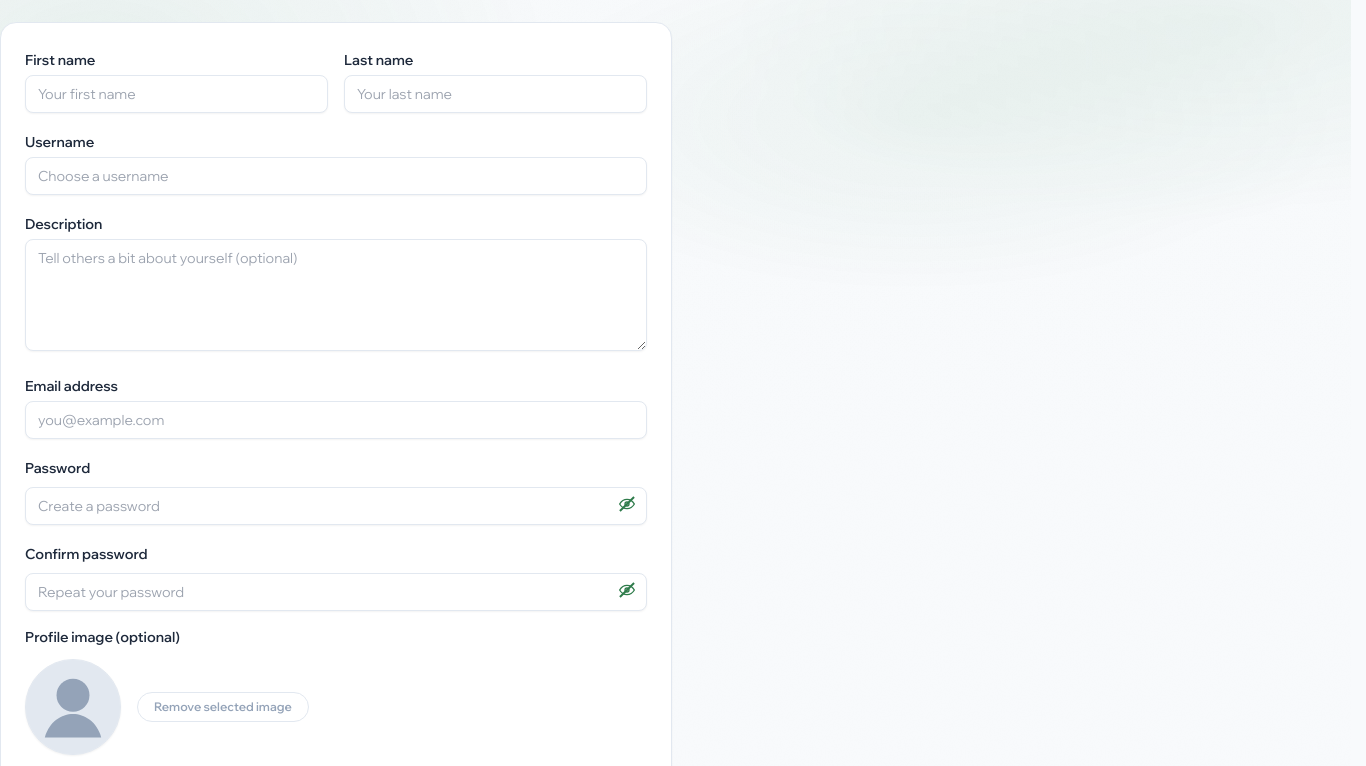
RegisterForm › shows password mismatch error when passwords differ
Type "Jamie" into the field labelled "First name" at (176, 94), box x1=25 y1=75 x2=328 y2=113
Type "Nguyen" into the field labelled "Last name" at (496, 94), box x1=344 y1=75 x2=647 y2=113
Type "jnguyen" into the field labelled "Username" at (336, 176), box x1=25 y1=157 x2=647 y2=195
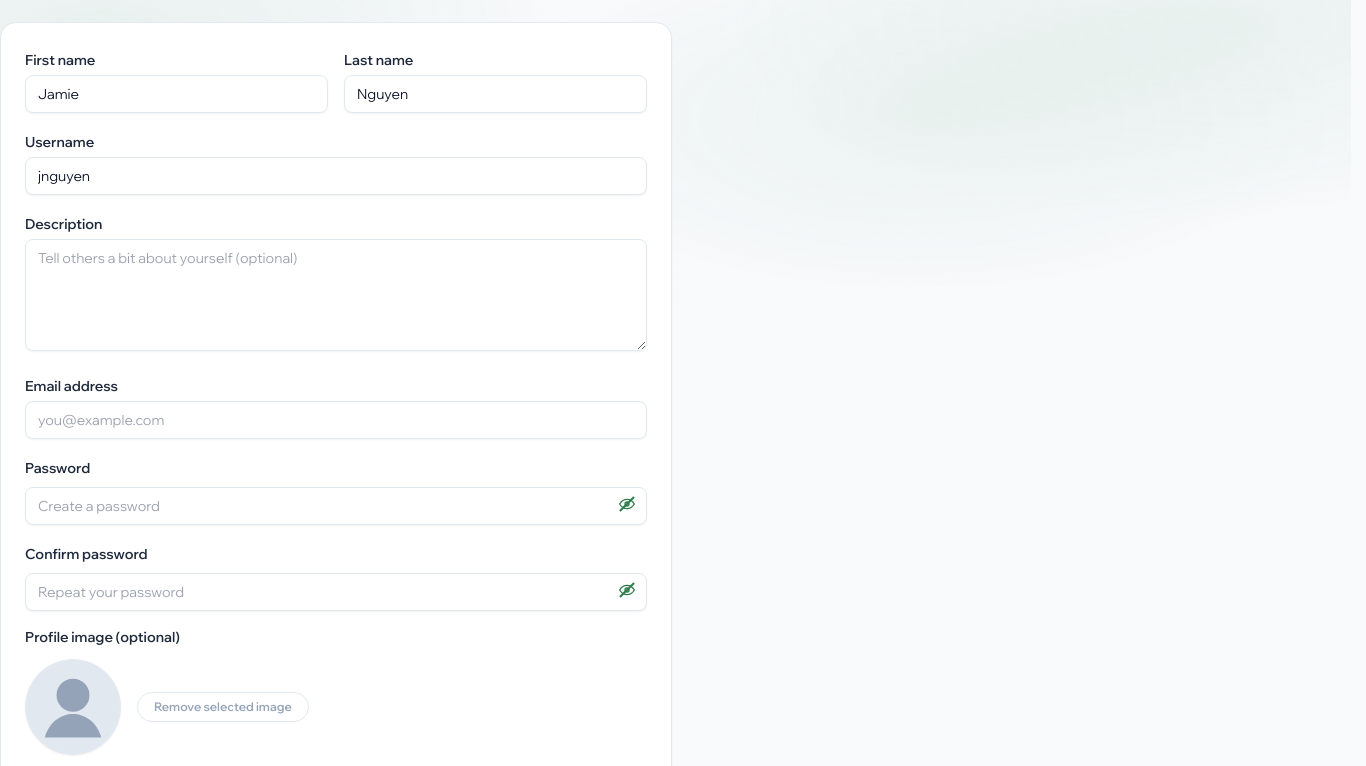
Type "jamie@example.com" into the field labelled "Email address" at (336, 420), box x1=25 y1=401 x2=647 y2=439
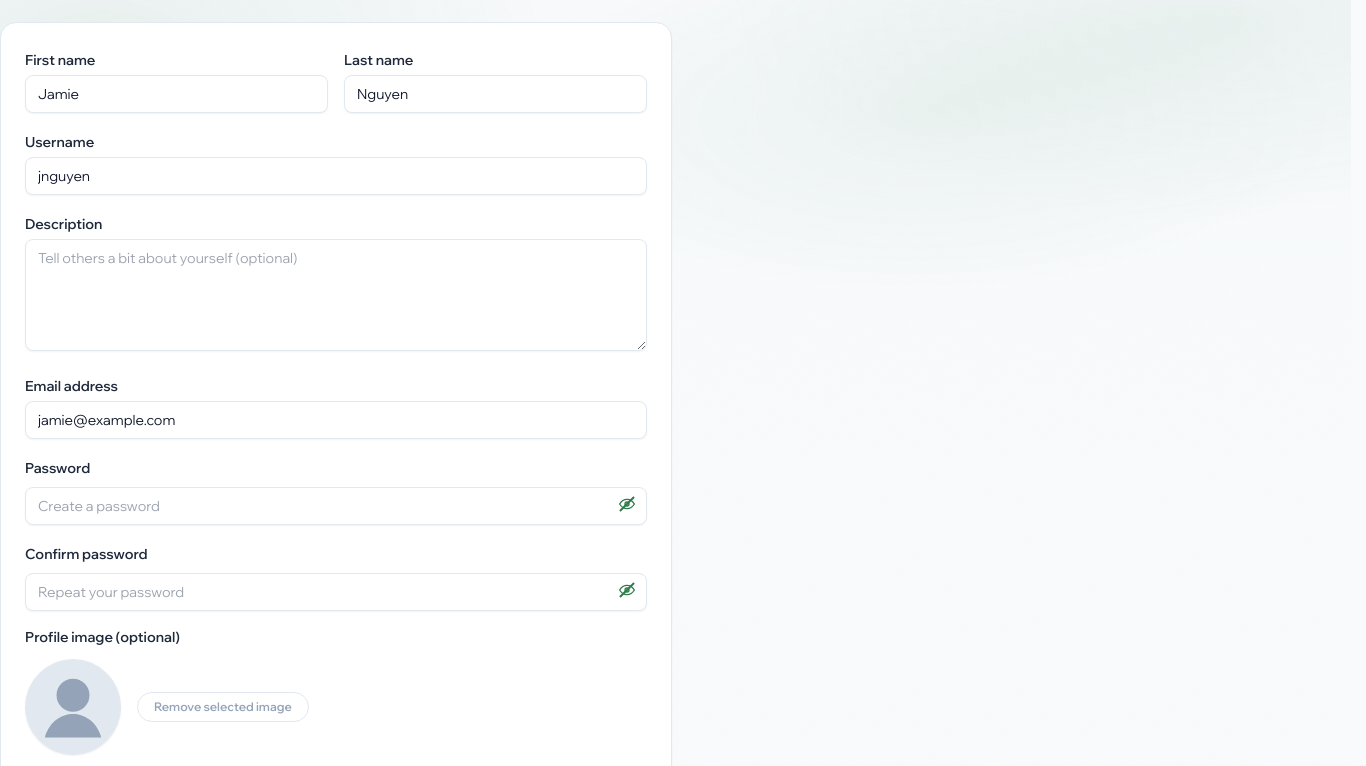
Type "password123" into the password field labelled "Password" at (336, 506), box x1=25 y1=487 x2=647 y2=525
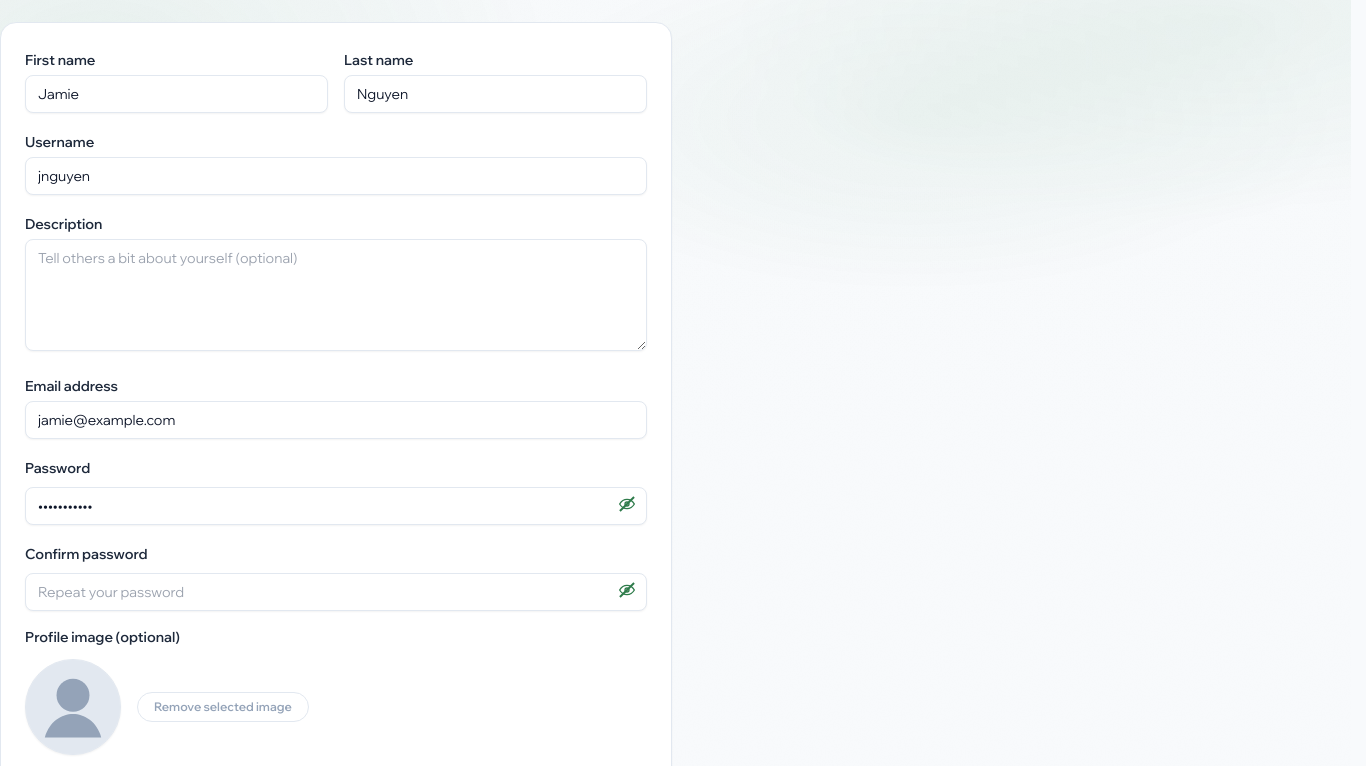
Type "password456" into the password field labelled "Confirm password" at (336, 592), box x1=25 y1=573 x2=647 y2=611
(page scrolled)
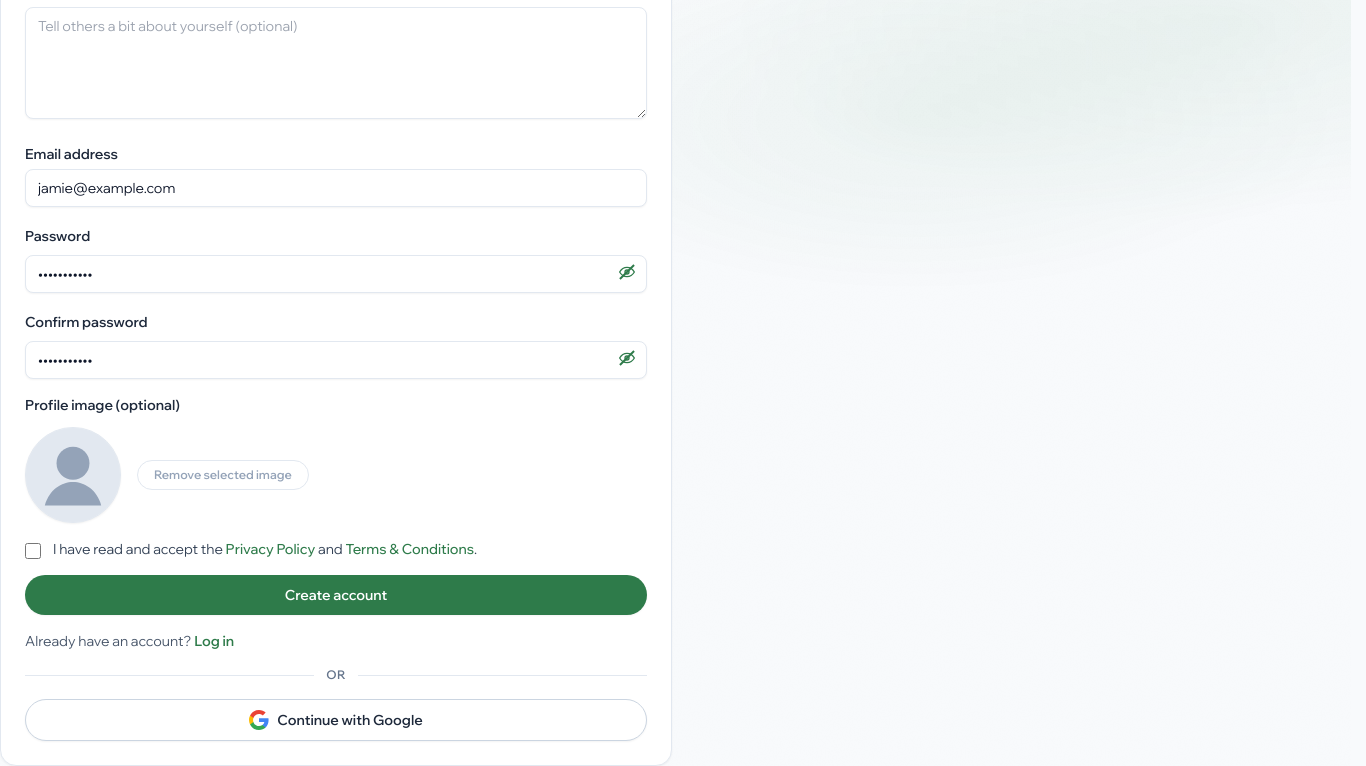
Click the checkbox with test id "register-accept-legal-documents" at (33, 551), box x1=25 y1=543 x2=41 y2=559
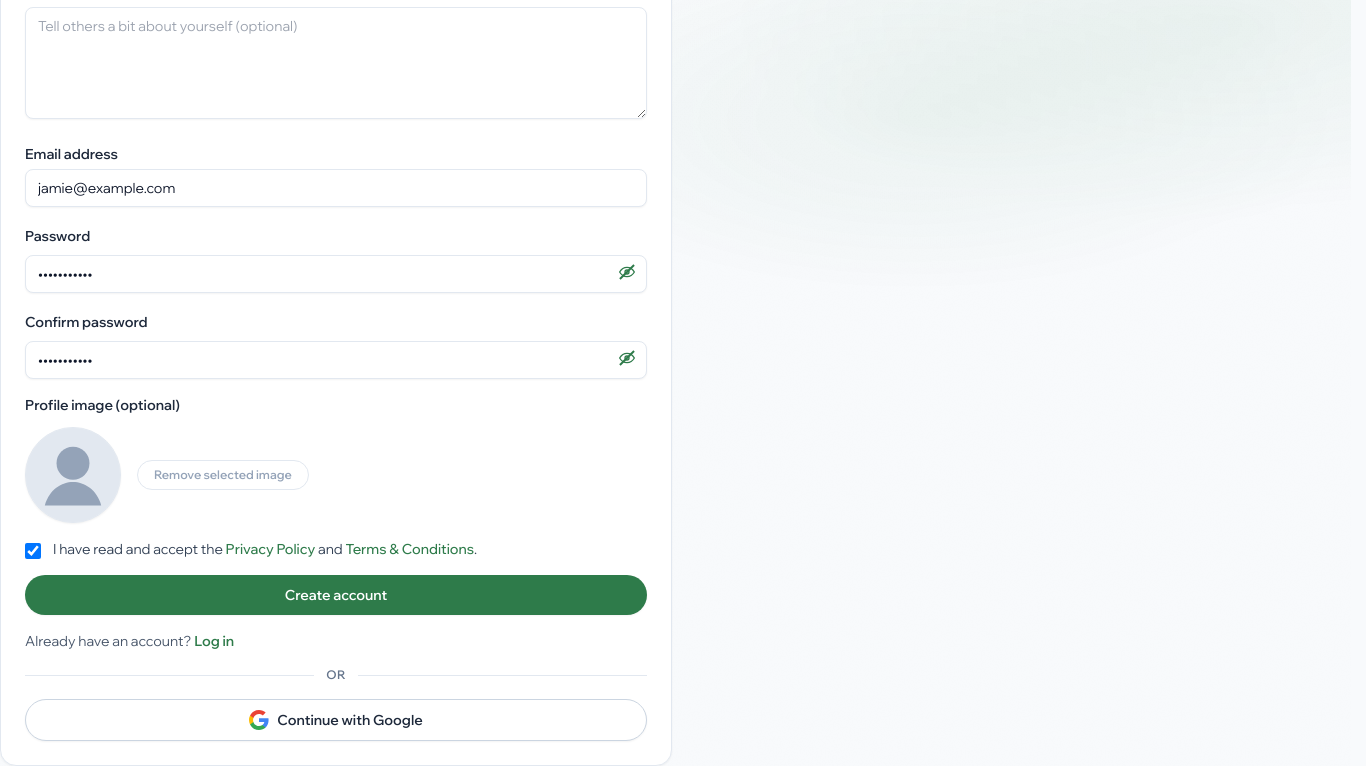
Click the button "Create account" at (336, 595), box x1=25 y1=575 x2=647 y2=615
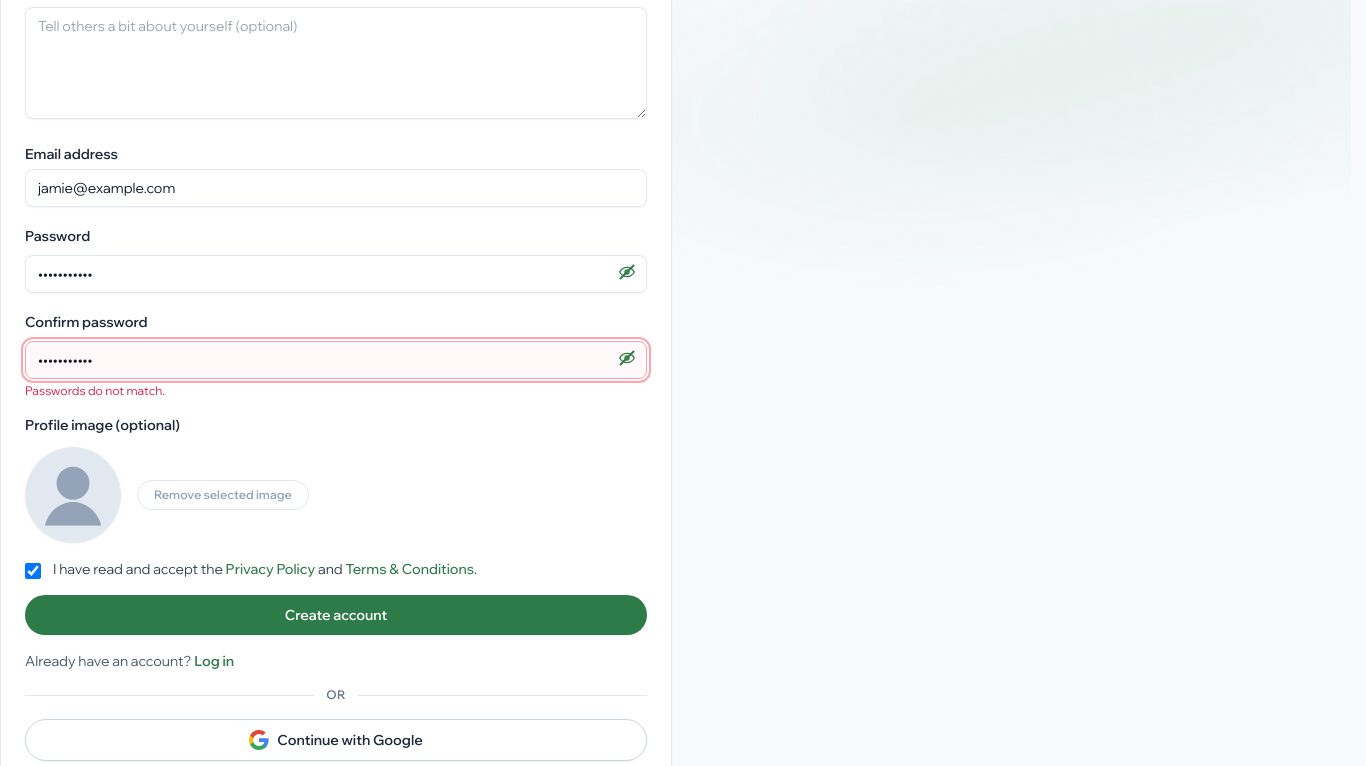
Check: the text "Passwords do not match." is shown, box x1=25 y1=383 x2=165 y2=398
